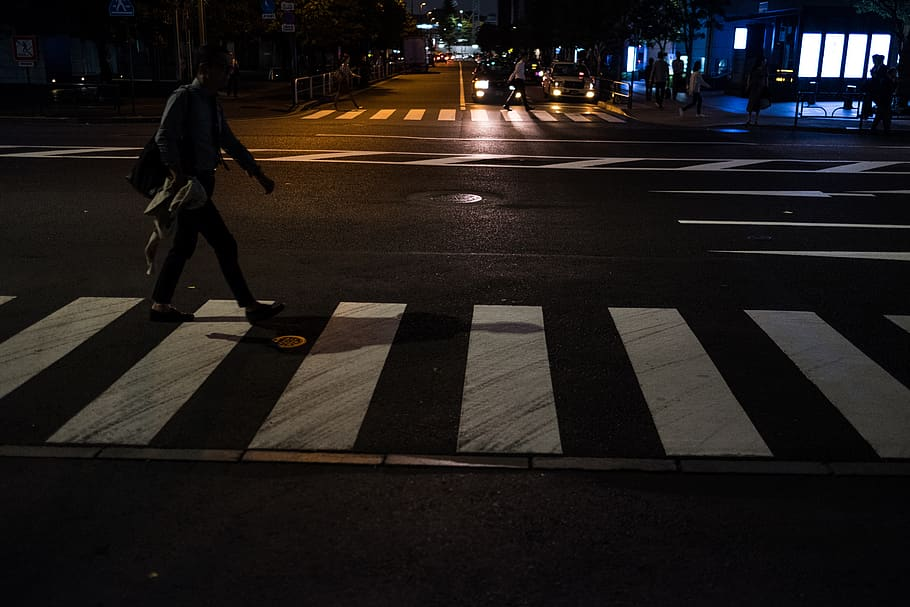Crosswalk: (8, 265, 910, 487)
